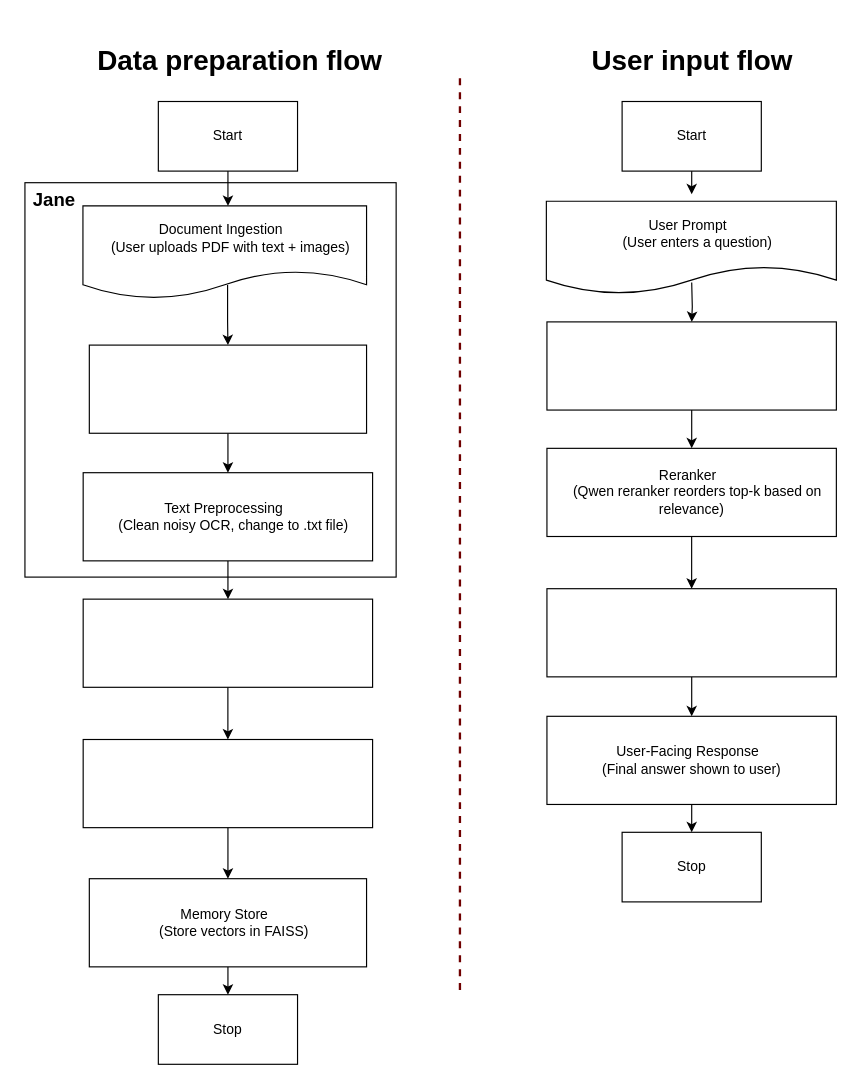
This 857x1085 diagram has some shape labels left out. The shapes that lost their labels are listed below. From the top down, each one's box as (x1, y1, x2, y2) in pixels, then its label:
(546, 321, 836, 410): Initial Retriever (Find top-k relevant chunks from FAISS)
(88, 344, 367, 433): Vision-to-Text Pipeline (OCR using MistralAI)
(82, 598, 373, 687): Split Chunker (Split into manageable chunks)
(546, 588, 836, 677): Context Fusion (Select top-n chunks for generation)
(82, 738, 373, 828): Vectorizer (Qwen Embedding v3)
